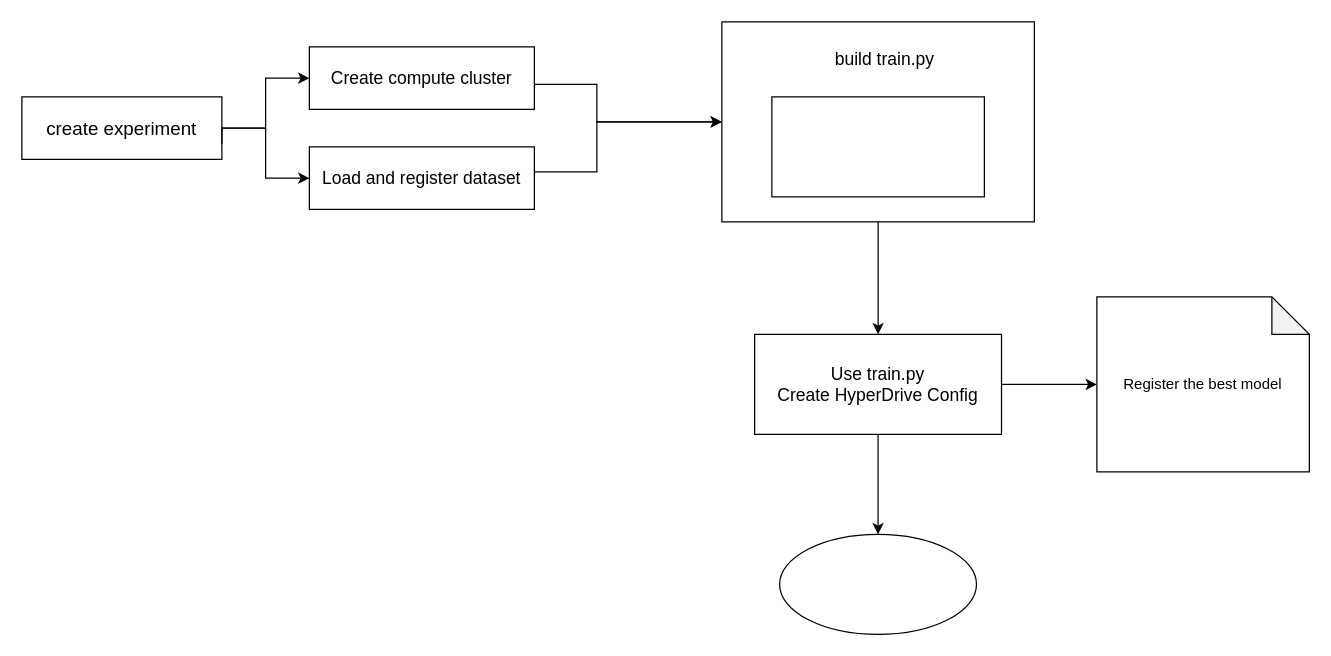
Some shapes in this 1331 by 656 pixel diagram are drawn without their labels. The shapes that lost their labels are listed below. From the top down, each one's centre as x and y in pixels, then its label:
[877,146]: data preprocessing train test split evaluation metric logging
[877,583]: Submit for execution
